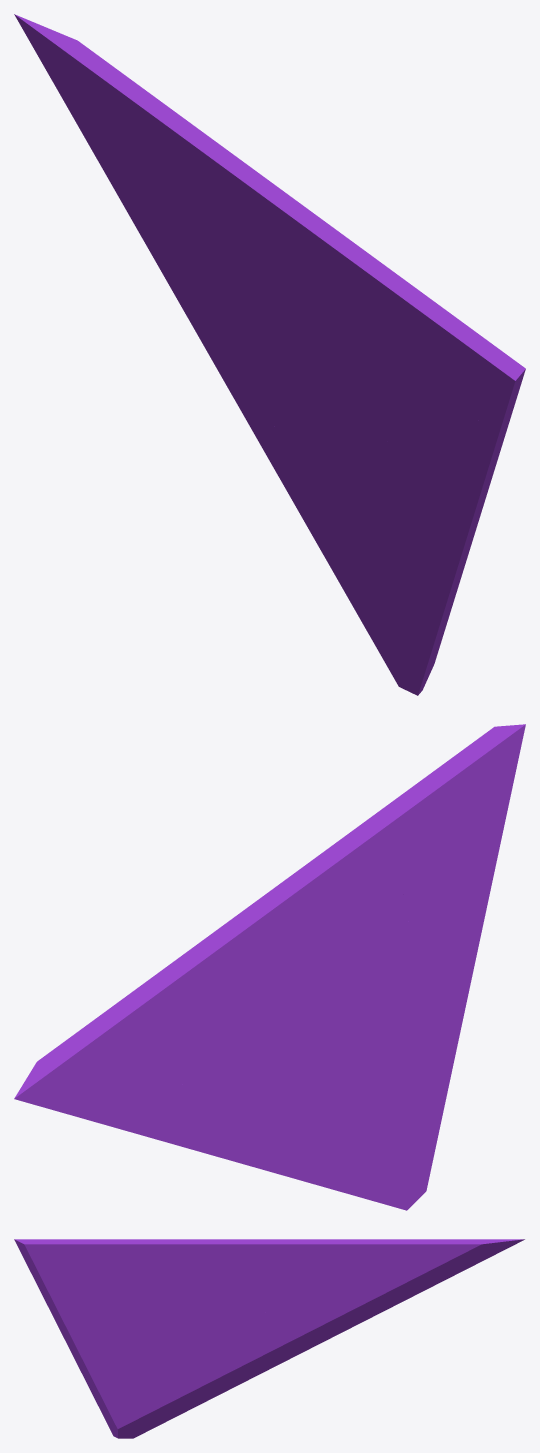
The model's file is Window_42_6_chunks.fbx.
3 renders of one model, top to bottom at view 1: azimuth 30°, elevation 25°; view 2: azimuth 150°, elevation 25°; view 3: azimuth 270°, elevation 25°, orthographic. The views are drawn at different scales.
Visible parts, largest first — view 1: Window_42_6_1, Window_42_6_7, Window_42_6_0, Window_42_6_12, Window_42_6_2, Window_42_6_10, Window_42_6_4, Window_42_6_15, Window_42_6_9, Window_42_6_5, Window_42_6_14, Window_42_6_6 (+1 smaller); view 2: Window_42_6_1, Window_42_6_7, Window_42_6_0, Window_42_6_12, Window_42_6_2, Window_42_6_10, Window_42_6_4, Window_42_6_15, Window_42_6_9, Window_42_6_5, Window_42_6_14, Window_42_6_6 (+1 smaller); view 3: Window_42_6_0, Window_42_6_7, Window_42_6_4, Window_42_6_12, Window_42_6_2, Window_42_6_10, Window_42_6_5, Window_42_6_15, Window_42_6_1, Window_42_6_9, Window_42_6_13, Window_42_6_3 (+1 smaller).
Boxes of the visible parts, x1,y1,x2,y2 form: Window_42_6_1: (339, 429, 488, 646); Window_42_6_7: (343, 250, 525, 427); Window_42_6_0: (291, 455, 452, 695); Window_42_6_12: (23, 19, 227, 224); Window_42_6_2: (262, 277, 341, 498); Window_42_6_10: (172, 230, 280, 479); Window_42_6_4: (300, 213, 390, 440); Window_42_6_15: (206, 150, 312, 310); Window_42_6_9: (14, 14, 172, 289); Window_42_6_5: (385, 397, 509, 491); Window_42_6_14: (183, 201, 276, 324); Window_42_6_6: (367, 320, 408, 415); Window_42_6_1: (345, 854, 498, 1118); Window_42_6_7: (329, 724, 525, 900); Window_42_6_0: (297, 1064, 441, 1210); Window_42_6_12: (19, 949, 214, 1092); Window_42_6_2: (267, 923, 348, 1179); Window_42_6_10: (175, 1046, 286, 1176); Window_42_6_4: (278, 848, 397, 1032); Window_42_6_15: (190, 885, 317, 1009); Window_42_6_9: (14, 1071, 175, 1144); Window_42_6_5: (393, 793, 511, 979); Window_42_6_14: (187, 996, 281, 1061); Window_42_6_6: (374, 883, 416, 946); Window_42_6_0: (98, 1341, 242, 1438); Window_42_6_7: (14, 1239, 189, 1296); Window_42_6_4: (135, 1239, 240, 1346); Window_42_6_12: (324, 1239, 516, 1289); Window_42_6_2: (196, 1271, 269, 1382); Window_42_6_10: (253, 1290, 364, 1377); Window_42_6_5: (29, 1269, 150, 1342); Window_42_6_15: (229, 1239, 329, 1294); Window_42_6_1: (42, 1295, 166, 1404); Window_42_6_9: (362, 1239, 524, 1320); Window_42_6_13: (256, 1266, 347, 1302); Window_42_6_3: (259, 1297, 298, 1322).
Bounding box in the file's own units: 27.2 × 492 × 1144.
